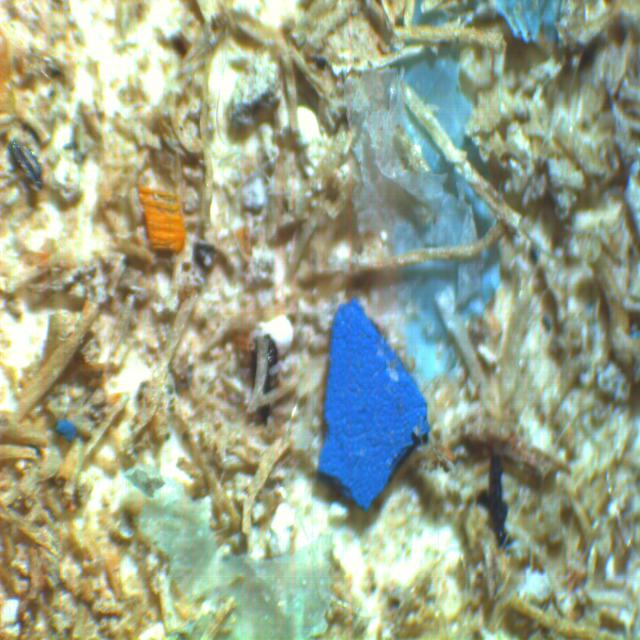microplastic: (313, 43, 533, 390), (74, 449, 369, 640), (317, 298, 428, 512), (133, 176, 190, 255), (47, 413, 83, 446)
